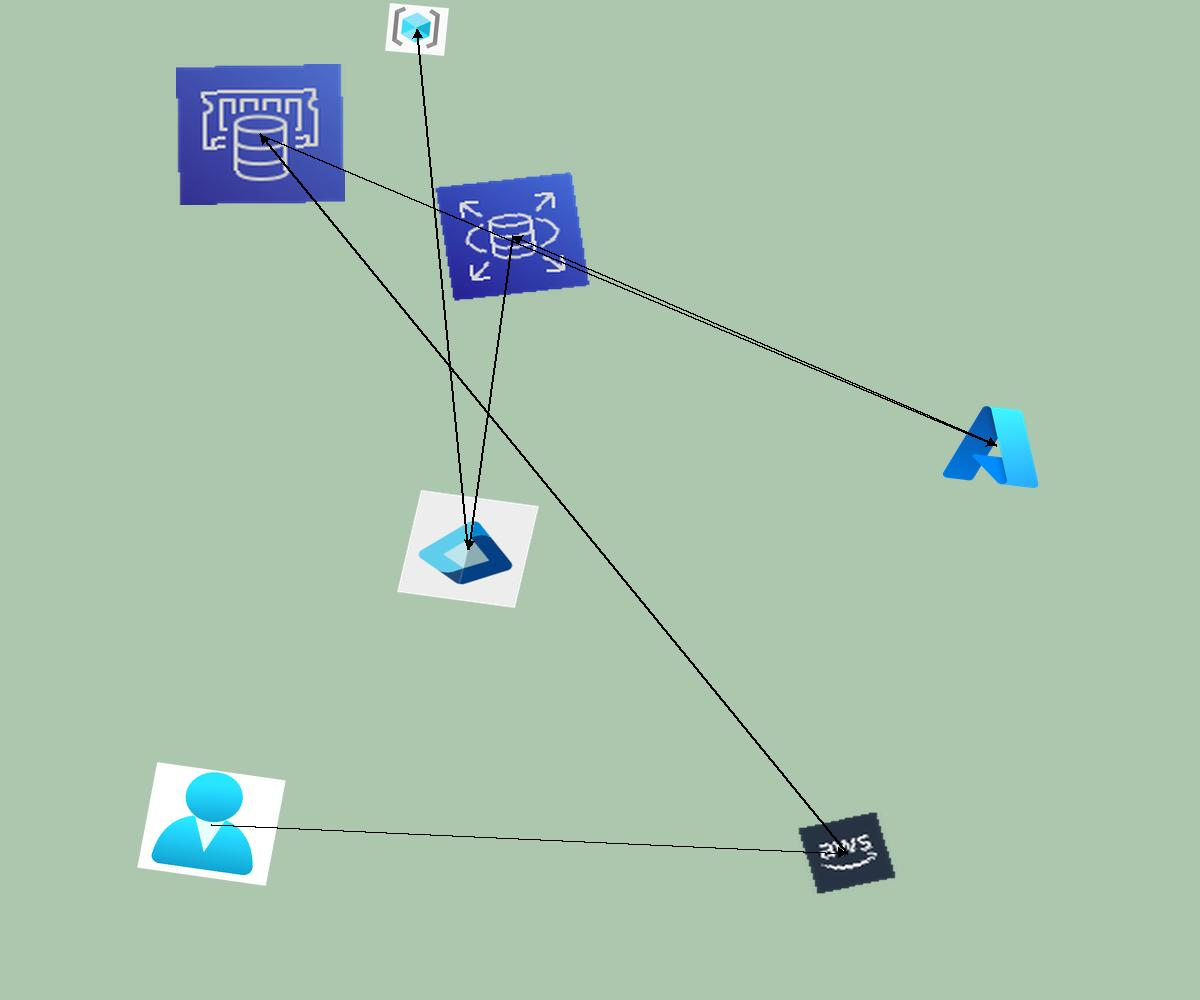AWS-Cloud-logo: (797, 811, 897, 895)
AWS-ElastiCache: (176, 64, 345, 205)
AWS-RDS: (434, 171, 591, 302)
Azure_microsoft_entra: (397, 490, 539, 608)
Azure_resource_group: (385, 3, 449, 56)
Azure_services: (937, 396, 1056, 495)
Azure_users: (137, 762, 286, 886)
